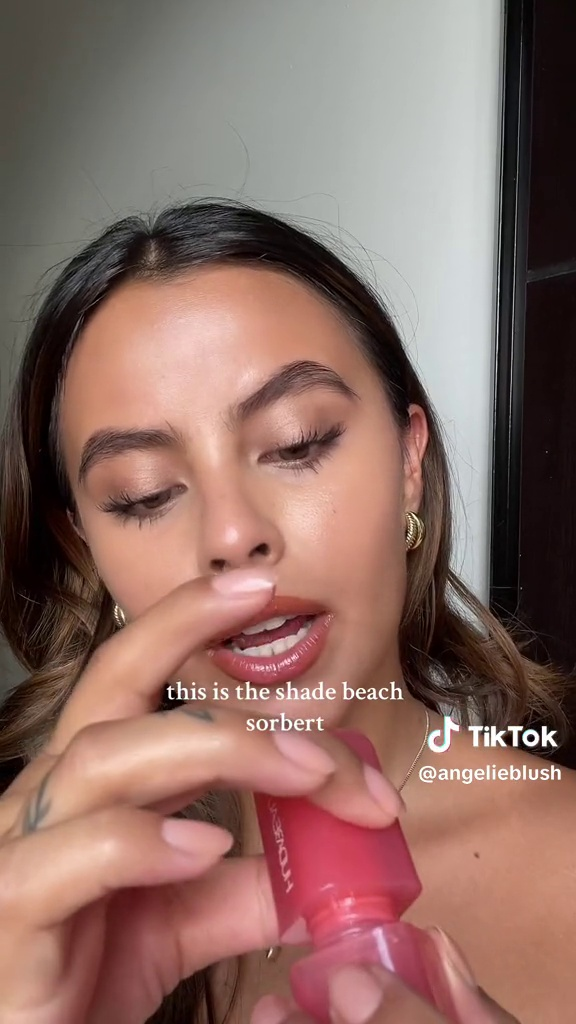train' :'yolo_data/train/images',: (239, 716, 458, 1023)
